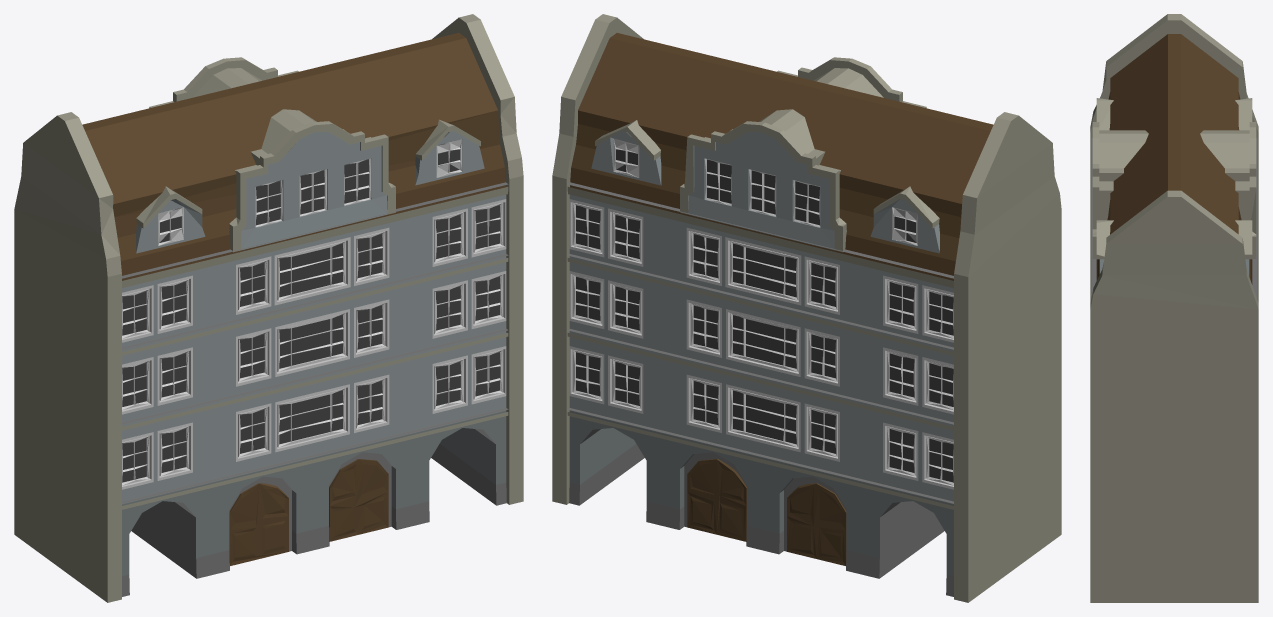
The model's file is b_building2_large.glb.
3 views of the same model, side by side, from view 1: azimuth 30°, elevation 25°; view 2: azimuth 150°, elevation 25°; view 3: azimuth 270°, elevation 25° (orthographic). The views are drawn at different scales.
Visible parts, largest first — view 1: Building2_Large; view 2: Building2_Large; view 3: Building2_Large.
Boxes of the visible parts, x1,y1,x2,y2 form: Building2_Large: [14, 14, 523, 602]; Building2_Large: [552, 14, 1061, 602]; Building2_Large: [1090, 14, 1258, 602].
Size of the model in its own units: 5.72 by 5.92 by 2.22.
